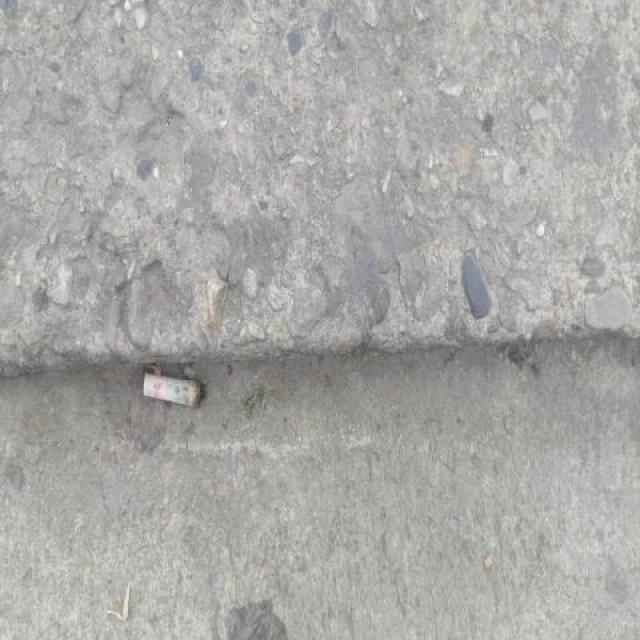non-organic waste: (140, 370, 212, 415)
